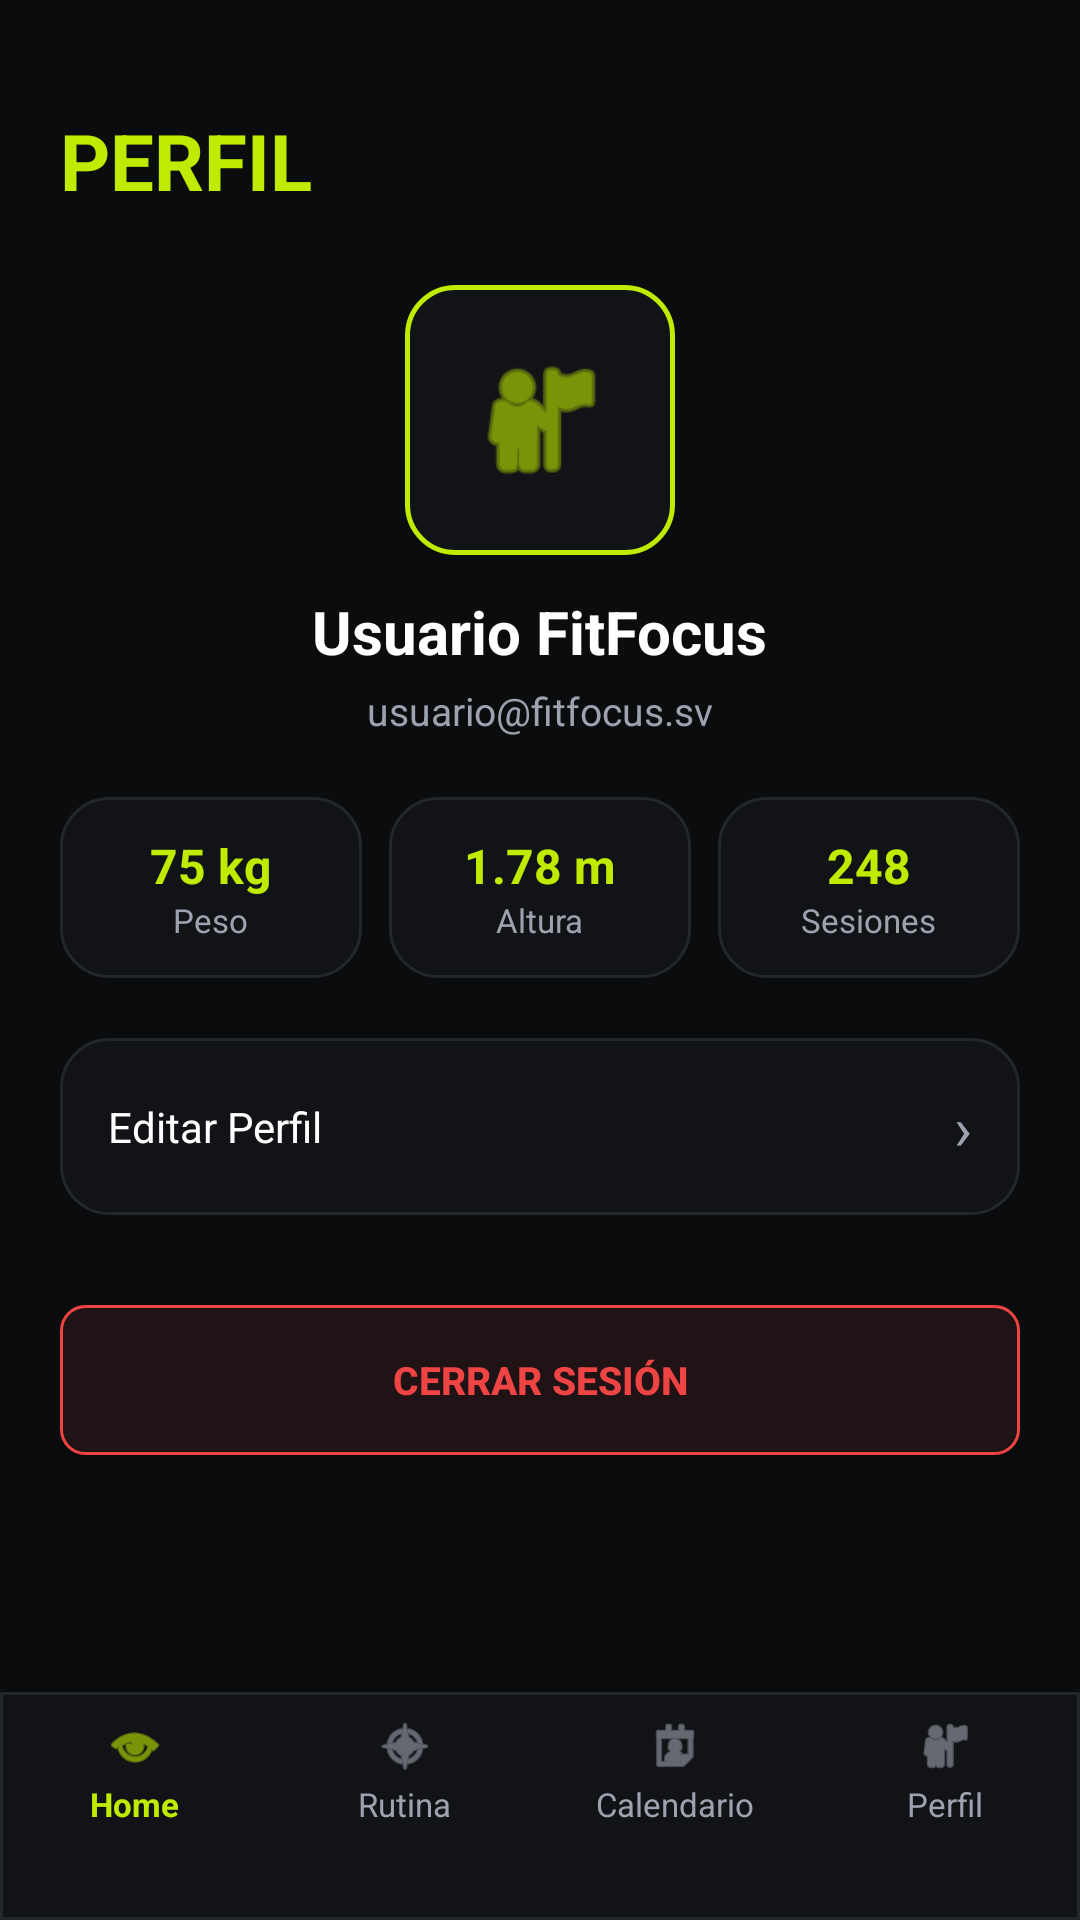

Locate icon controls on the screen. Image size 1080w x 1920h, boxes as (x1, y1, x2, y2).
view: (111, 1732, 159, 1763)
